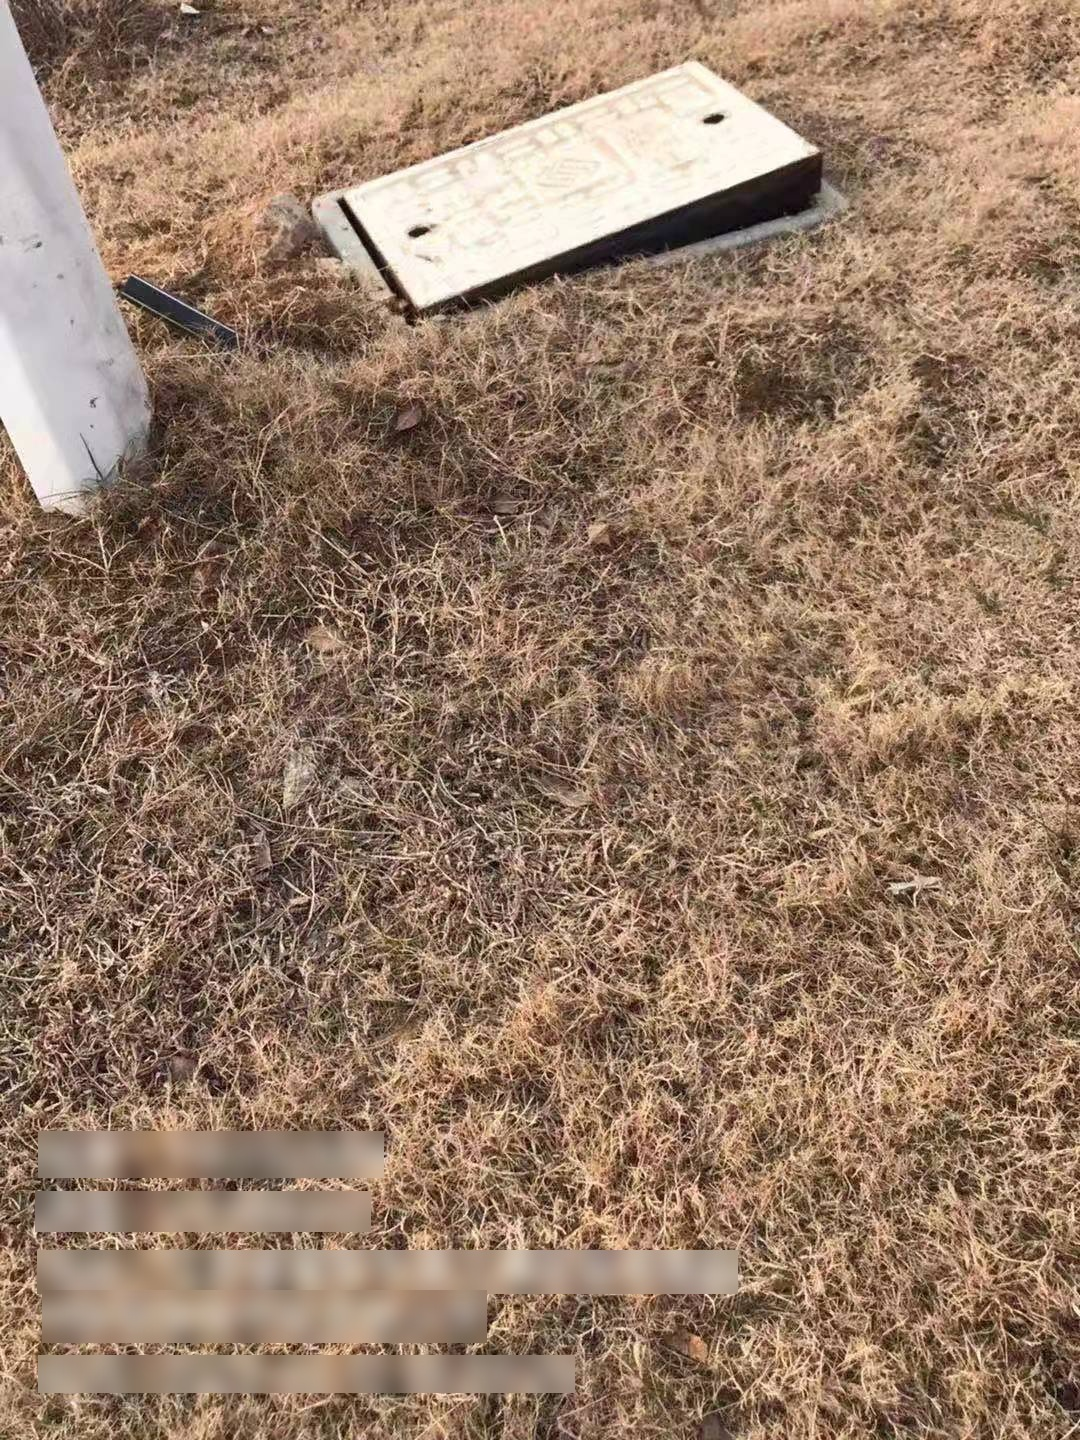well: (312, 57, 841, 323)
